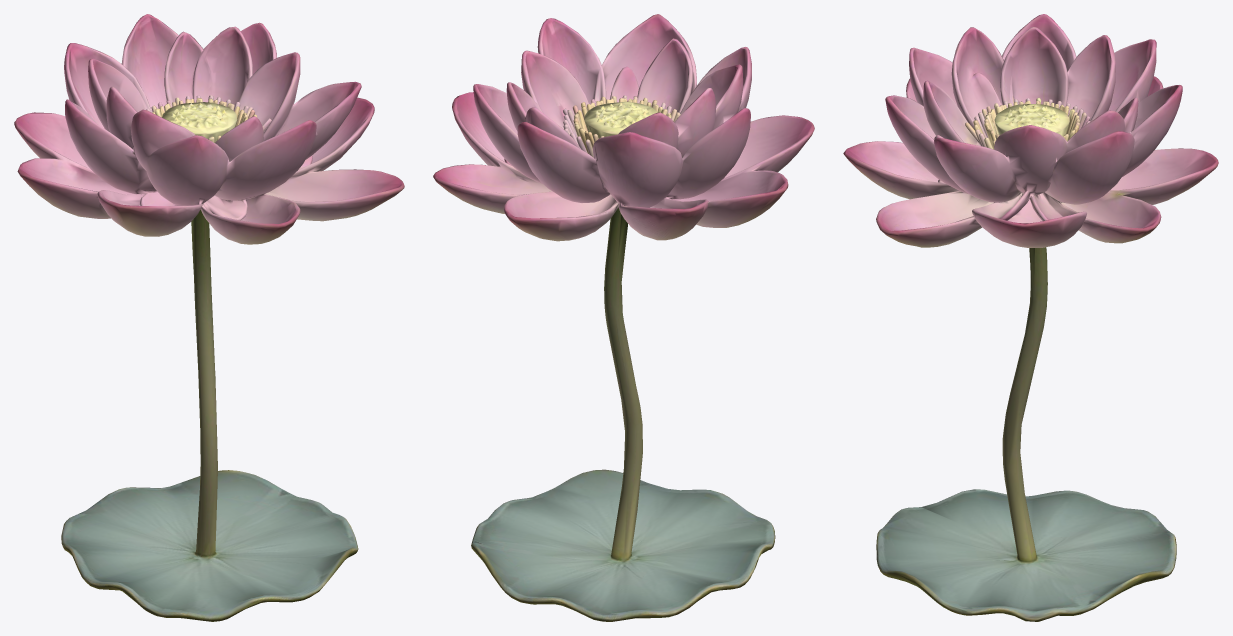
File: lotus.glb
3 views of the same model, side by side, from view 1: azimuth 30°, elevation 25°; view 2: azimuth 150°, elevation 25°; view 3: azimuth 270°, elevation 25° (orthographic).
Parts seen in each view (by area): view 1: node_0; view 2: node_0; view 3: node_0.
Part boxes in pixels (box(x1,y1,x2,y2)): node_0: box(14, 14, 404, 621); node_0: box(433, 14, 814, 621); node_0: box(843, 14, 1218, 621).
Bounding box in the file's own units: 0.358 × 0.4998 × 0.3433.
1 material, 1 textured.
